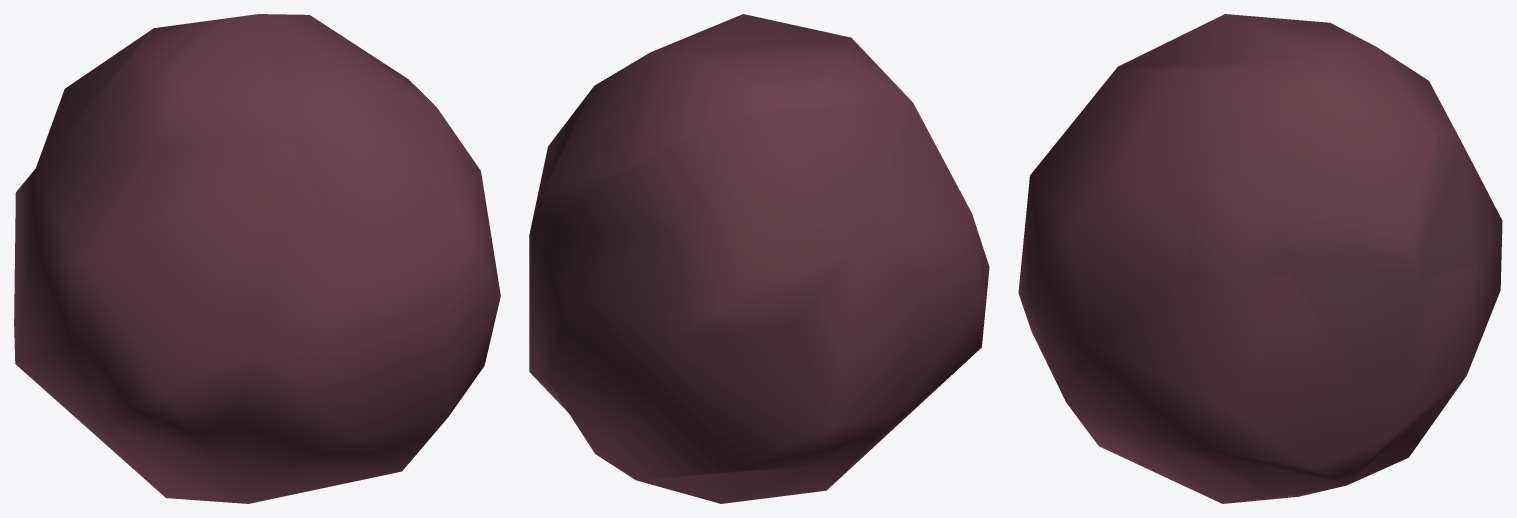
Rendered from space-asteroids-asteroid_v18.fbx.
3 views of the same model, side by side, from view 1: azimuth 30°, elevation 25°; view 2: azimuth 150°, elevation 25°; view 3: azimuth 270°, elevation 25° (orthographic). The views are drawn at different scales.
Parts seen in each view (by area): view 1: Asteroid_v18; view 2: Asteroid_v18; view 3: Asteroid_v18.
Part boxes in pixels (box(x1,y1,x2,y2)): Asteroid_v18: box(14, 14, 500, 503); Asteroid_v18: box(529, 14, 989, 503); Asteroid_v18: box(1018, 14, 1502, 503).
Bounding box in the file's own units: 492 × 500 × 499.
